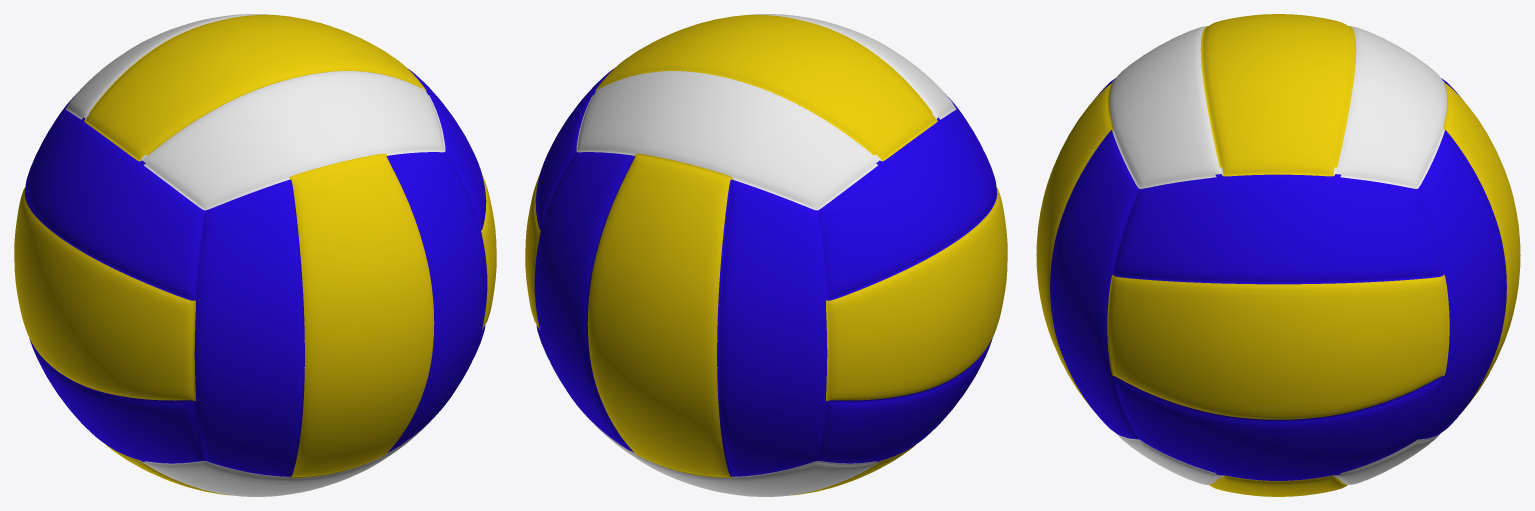
Rendered from Voley-transformed.glb.
3 renders of one model, left to right at view 1: azimuth 30°, elevation 25°; view 2: azimuth 150°, elevation 25°; view 3: azimuth 270°, elevation 25°, orthographic.
Visible parts, largest first — view 1: volleyV2; view 2: volleyV2; view 3: volleyV2.
Boxes of the visible parts, left/top/right/bottom form: volleyV2: left=14, top=14, right=496, bottom=496; volleyV2: left=525, top=14, right=1007, bottom=496; volleyV2: left=1036, top=14, right=1520, bottom=496.
Size of the model in its own units: 0.5167 by 0.5167 by 0.5167.
